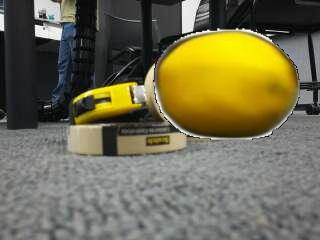lemon: (158, 33, 298, 136)
